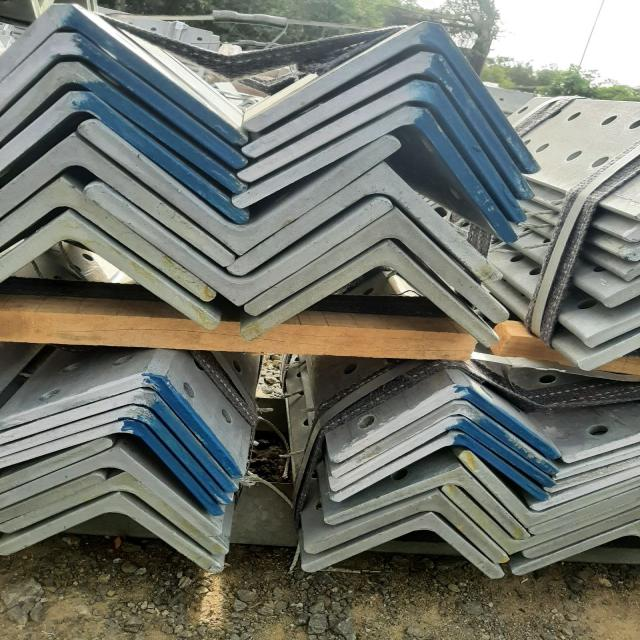metal-angles: (242, 21, 542, 175), (78, 119, 402, 256), (241, 51, 536, 200), (238, 78, 528, 222), (232, 106, 520, 243), (83, 182, 392, 306), (0, 4, 249, 145), (0, 33, 248, 169), (226, 162, 504, 283), (0, 91, 250, 224), (0, 62, 247, 194), (0, 132, 236, 266), (243, 207, 509, 324), (239, 239, 500, 348), (0, 176, 216, 302), (1, 209, 220, 331), (0, 373, 244, 477), (0, 389, 239, 492), (0, 406, 233, 505), (0, 419, 225, 516), (0, 446, 223, 537), (0, 471, 230, 556), (331, 384, 562, 463), (0, 492, 224, 572), (332, 402, 560, 477), (331, 417, 557, 491), (324, 466, 531, 539), (304, 491, 512, 563), (331, 434, 551, 502), (441, 484, 640, 555), (458, 451, 640, 528), (301, 512, 505, 578)
